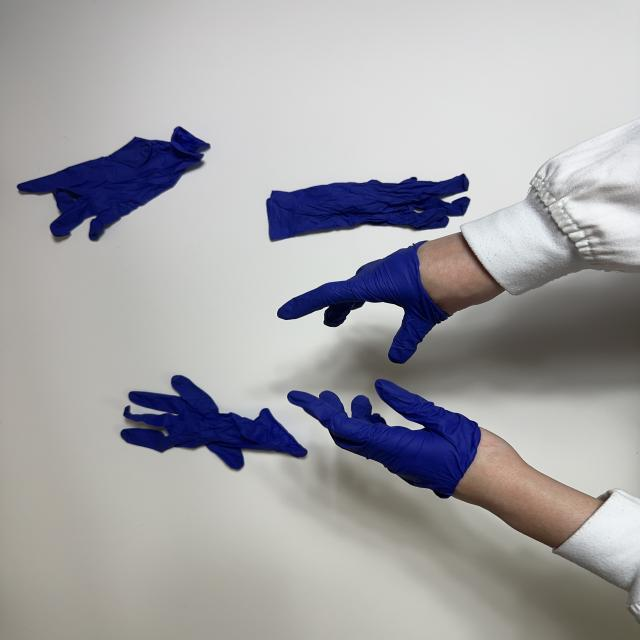glove_not_fitted: (286, 376, 598, 552), (274, 229, 509, 365)
